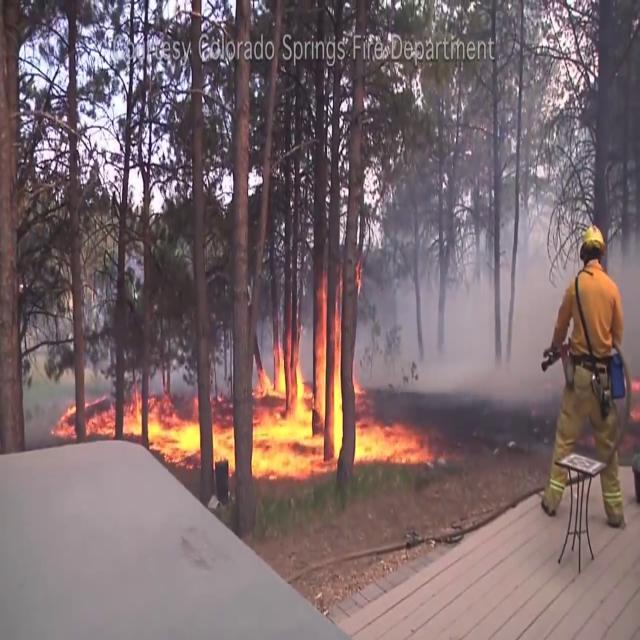Fire: (252, 282, 348, 479), (117, 388, 201, 458), (352, 408, 436, 470)
Smoke: (366, 181, 566, 408)
